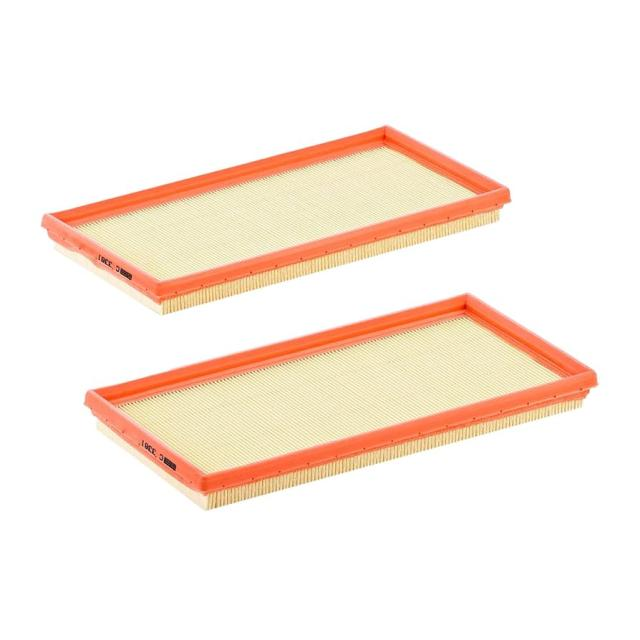air_filter: (2, 308, 598, 514), (0, 119, 528, 305)
